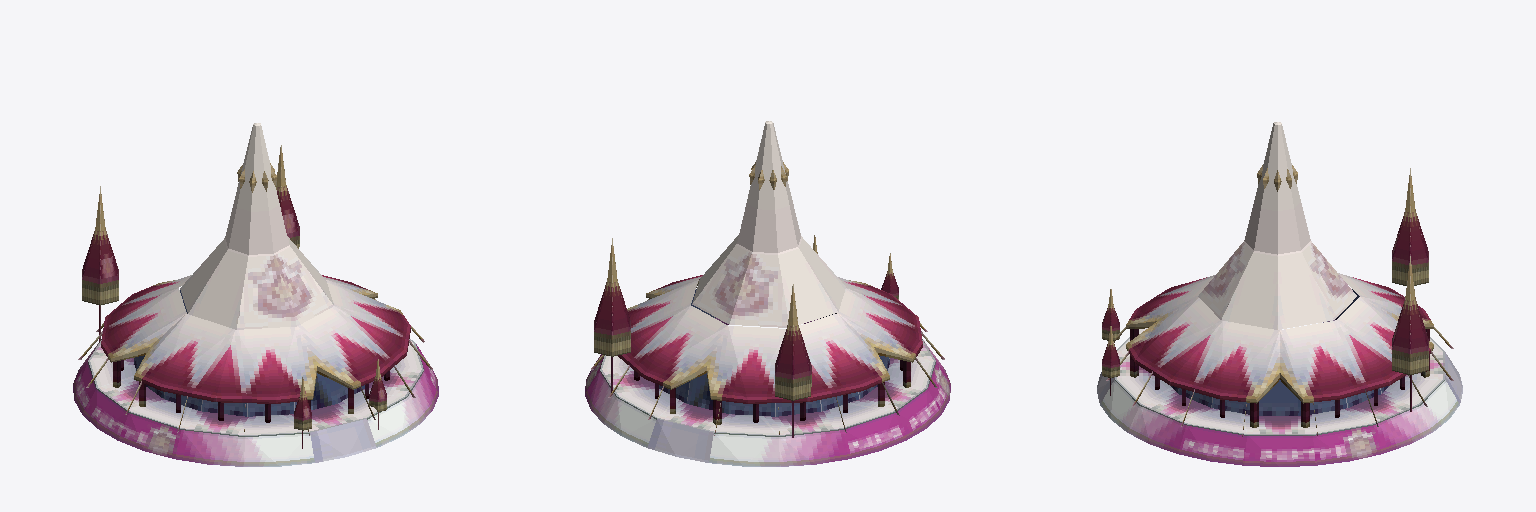
3 renders of one model, left to right at view 1: azimuth 30°, elevation 25°; view 2: azimuth 150°, elevation 25°; view 3: azimuth 270°, elevation 25°, orthographic.
Visible parts, largest first — view 1: LowDoom7, LowDoom7_futa; view 2: LowDoom7, LowDoom7_futa; view 3: LowDoom7, LowDoom7_futa.
Part boxes in pixels (x1,y1,x2,y2): LowDoom7: (73, 145, 438, 466); LowDoom7_futa: (180, 123, 333, 329); LowDoom7: (585, 235, 950, 466); LowDoom7_futa: (692, 121, 845, 327); LowDoom7: (1097, 168, 1462, 466); LowDoom7_futa: (1198, 122, 1356, 329).
Size of the model in its own units: 61.75 by 49.65 by 61.75.
2 materials, 1 textured.